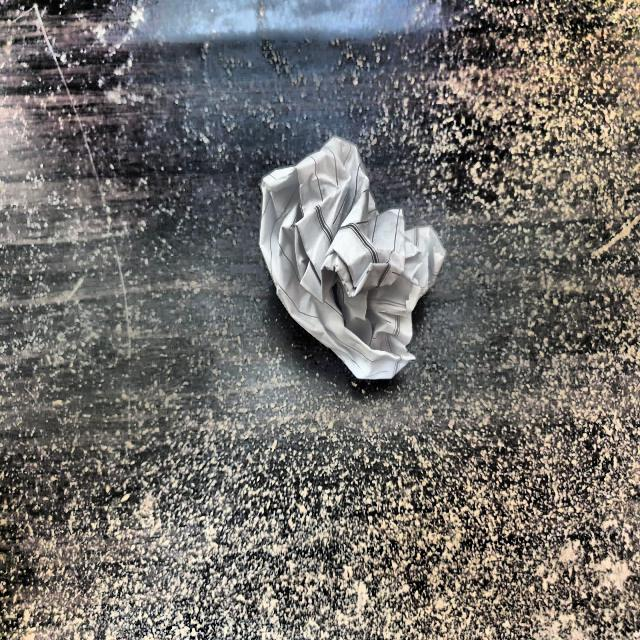Paper: (254, 129, 446, 396)
